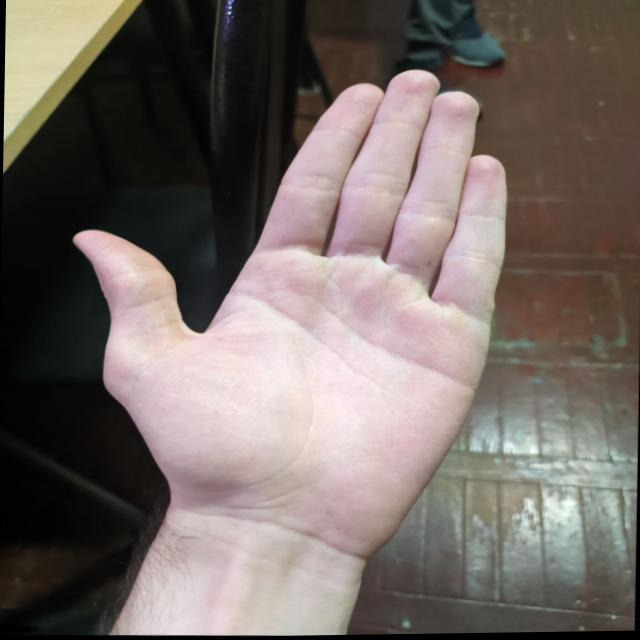v: (52, 51, 492, 543)
